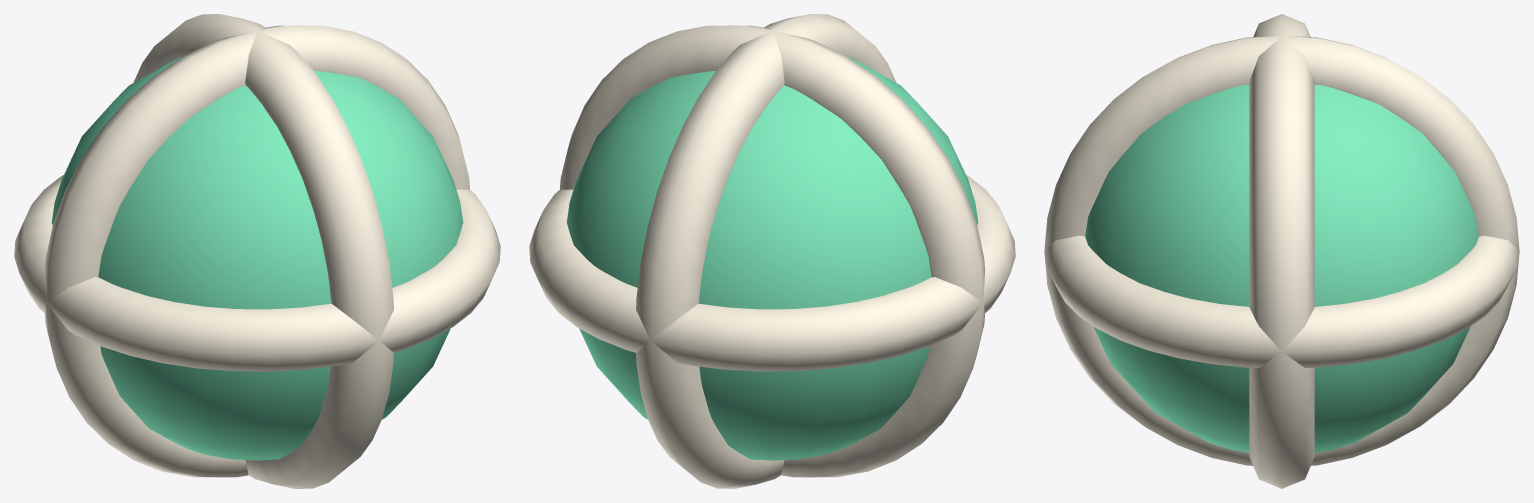
Rendered from CardboardHideoutMoving_Premium.fbx.
3 renders of one model, left to right at view 1: azimuth 30°, elevation 25°; view 2: azimuth 150°, elevation 25°; view 3: azimuth 270°, elevation 25°, orthographic. The views are drawn at different scales.
Parts seen in each view (by area): view 1: CardboardHideout_Moving; view 2: CardboardHideout_Moving; view 3: CardboardHideout_Moving.
Part boxes in pixels (x1,y1,x2,y2): CardboardHideout_Moving: (14, 14, 500, 488); CardboardHideout_Moving: (529, 14, 1015, 488); CardboardHideout_Moving: (1044, 14, 1519, 488).
Bounding box in the file's own units: 0.0549 × 0.0549 × 0.0549.
